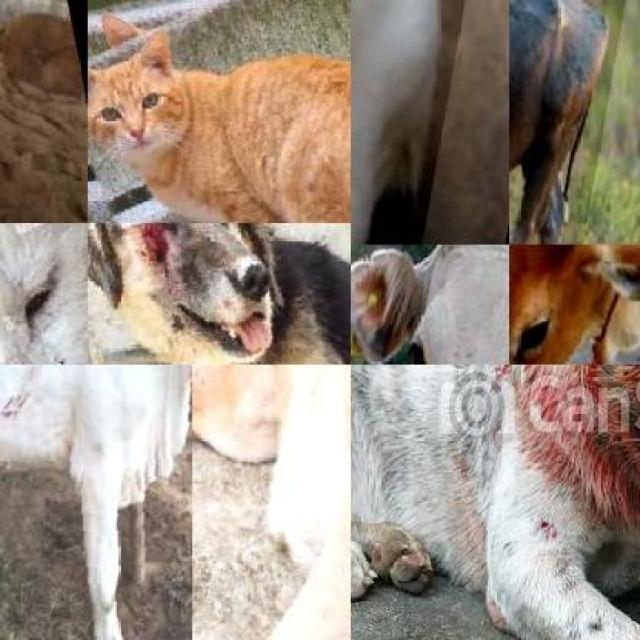buffalo: (509, 0, 640, 245)
cat: (87, 0, 350, 223), (351, 0, 491, 245)
cow: (0, 364, 192, 640), (351, 244, 509, 364), (509, 244, 640, 364)
dog: (351, 364, 640, 640), (192, 364, 350, 640), (87, 223, 350, 365)
injured: (591, 364, 640, 510), (158, 223, 242, 283)
